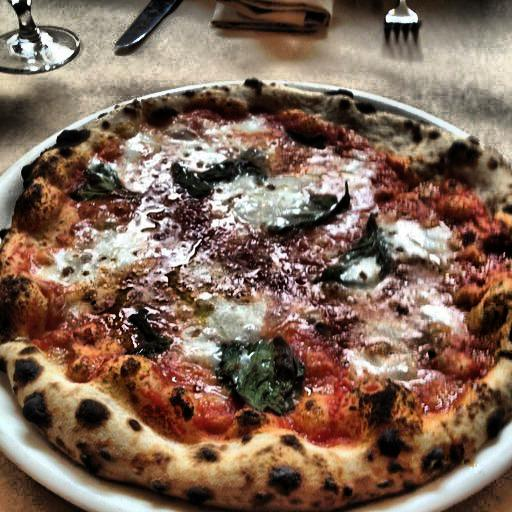pizza: (11, 79, 512, 512)
